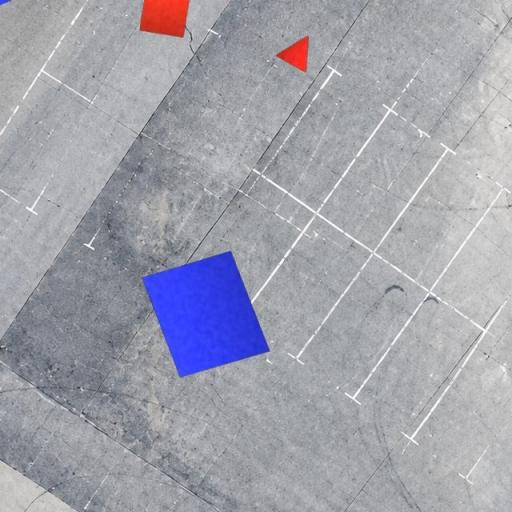BLUE_SQUARE: (141, 250, 270, 378)
RED_SQUARE: (138, 0, 192, 38)
